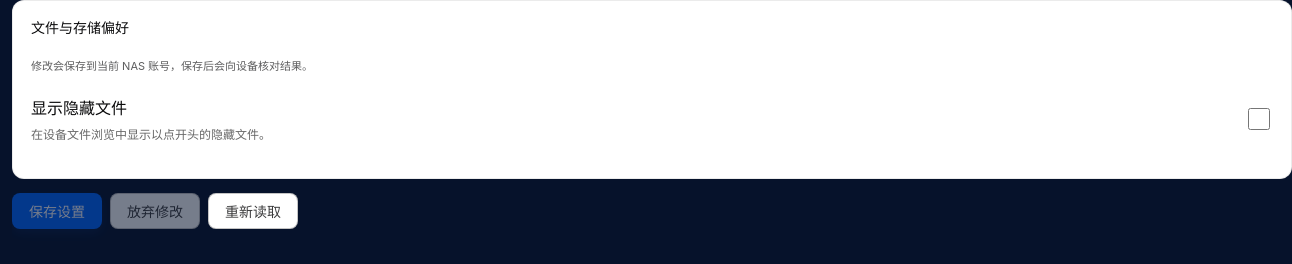
retains edited values after a failed save
The width and height of the screenshot is (1292, 264).
Click the checkbox labelled "显示隐藏文件".
click(1259, 119)  # box [1248,108,1270,130]
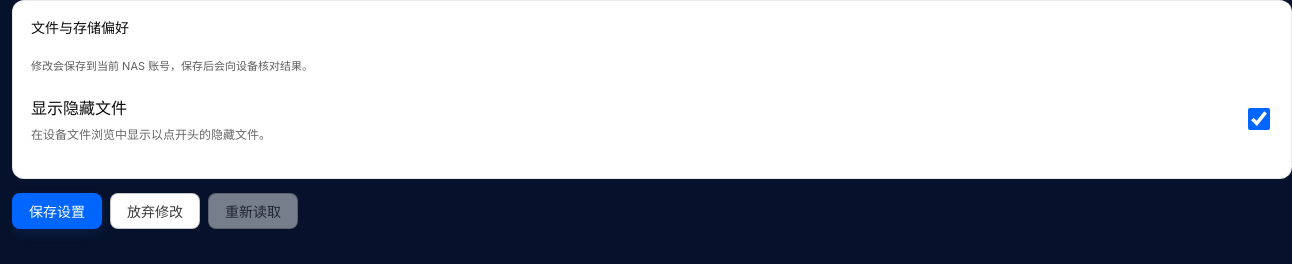
Click the button "保存设置".
click(57, 211)  # box [12,193,102,229]
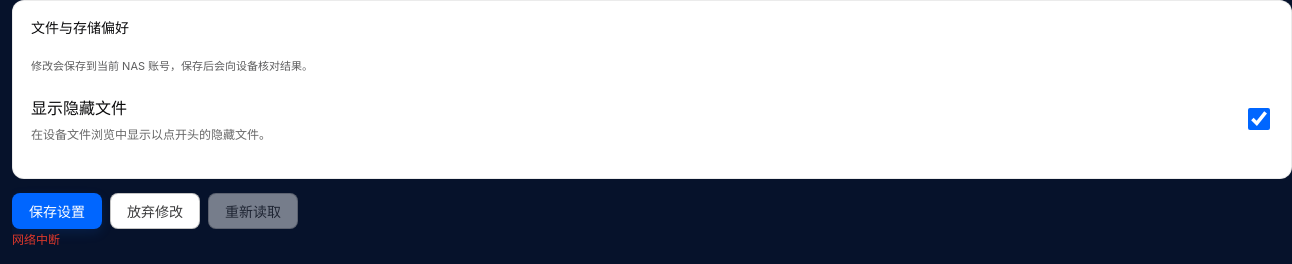
Now the checkbox labelled "显示隐藏文件" is checked, box [1248,108,1270,130]
Now the text "网络中断" is shown, box [12,232,60,247]
